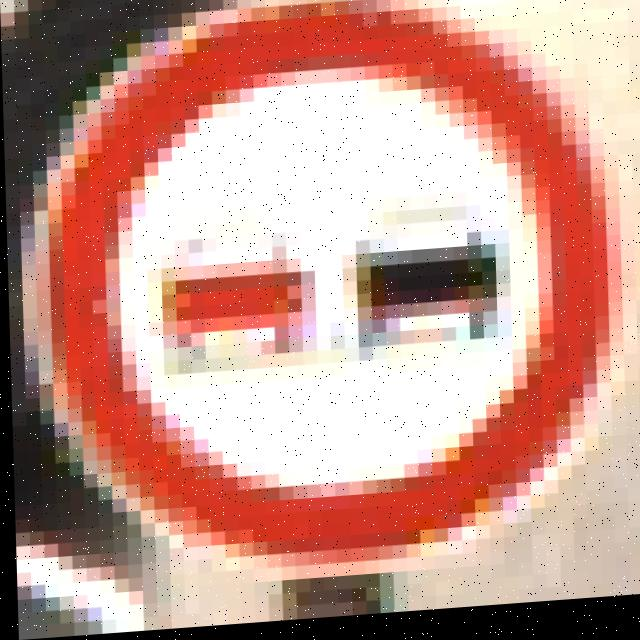no_overtaking: (62, 0, 640, 566)
